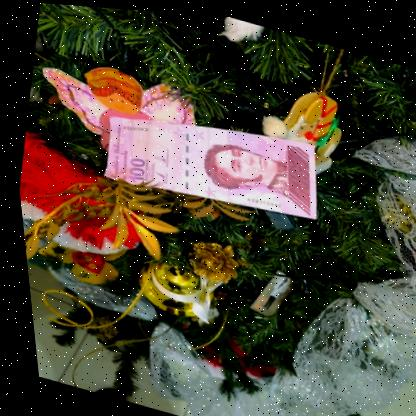one_hundred-front-vef: (90, 84, 330, 234)
